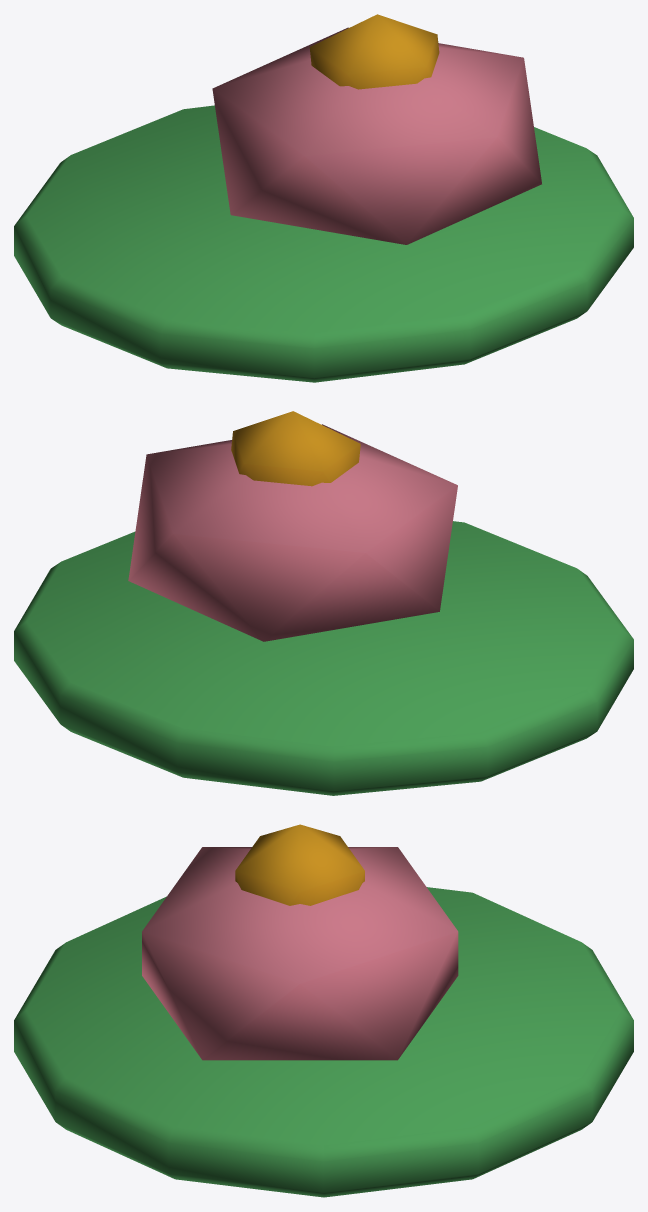
File: water-flower.glb
3 views of the same model, one above another, from view 1: azimuth 30°, elevation 25°; view 2: azimuth 150°, elevation 25°; view 3: azimuth 270°, elevation 25° (orthographic). The views are drawn at different scales.
Parts seen in each view (by area): view 1: water-flower; view 2: water-flower; view 3: water-flower.
Part boxes in pixels (box(x1,y1,x2,y2)): water-flower: box(14, 14, 633, 382); water-flower: box(14, 411, 633, 795); water-flower: box(14, 824, 633, 1197).
Size of the model in its own units: 0.28 by 0.12 by 0.26.
